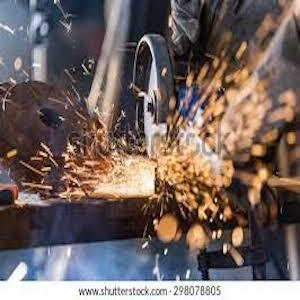heat: (81, 113, 258, 217)
